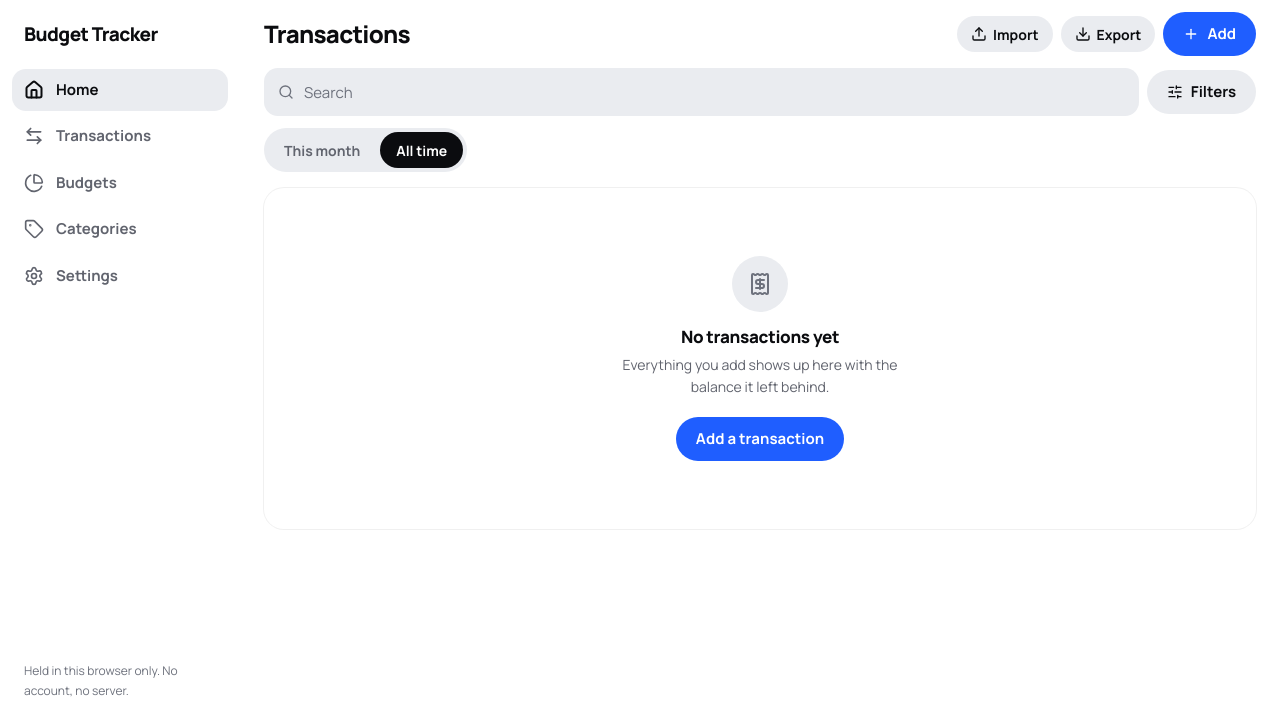
recording an entry › closes on Escape without saving
The image size is (1280, 720).
Check: the text "No transactions yet" is shown, box [681,325,839,348]
Click the button with aria-label "add transaction" at (1210, 34), box [1163,12,1256,56]
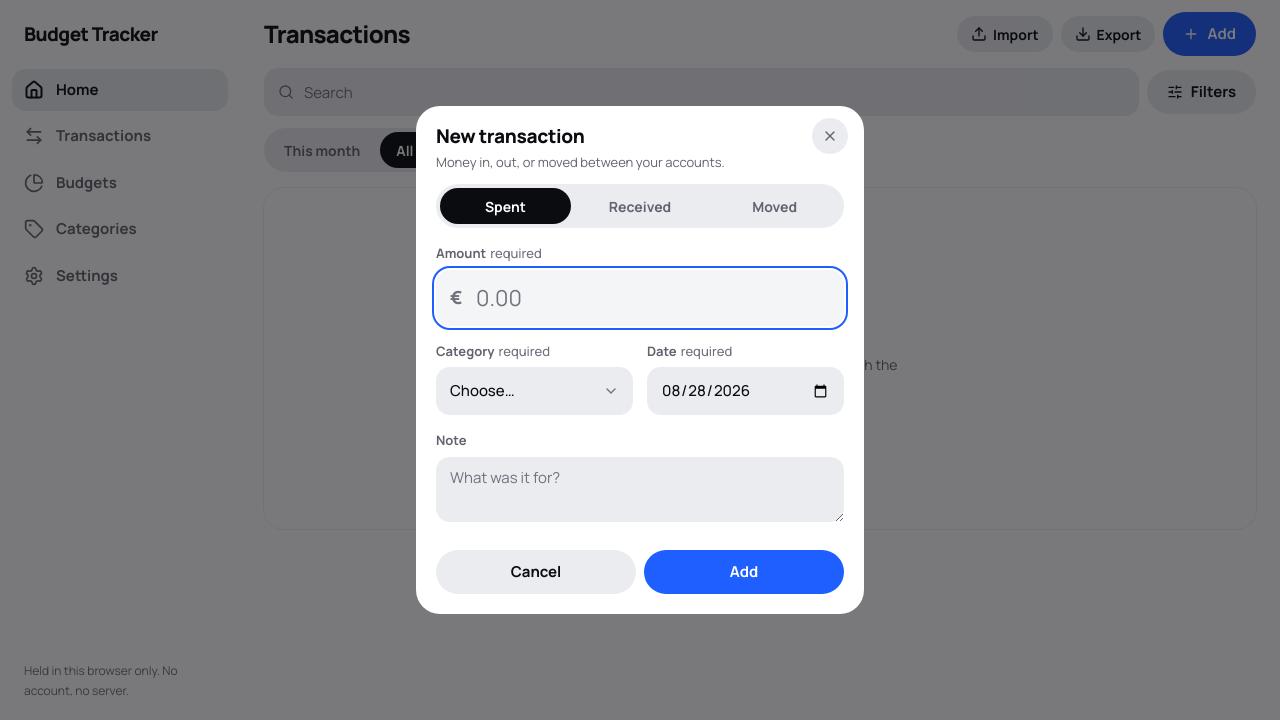
Type "15" into the field labelled "Amount" at (640, 298), box [436,270,844,326]
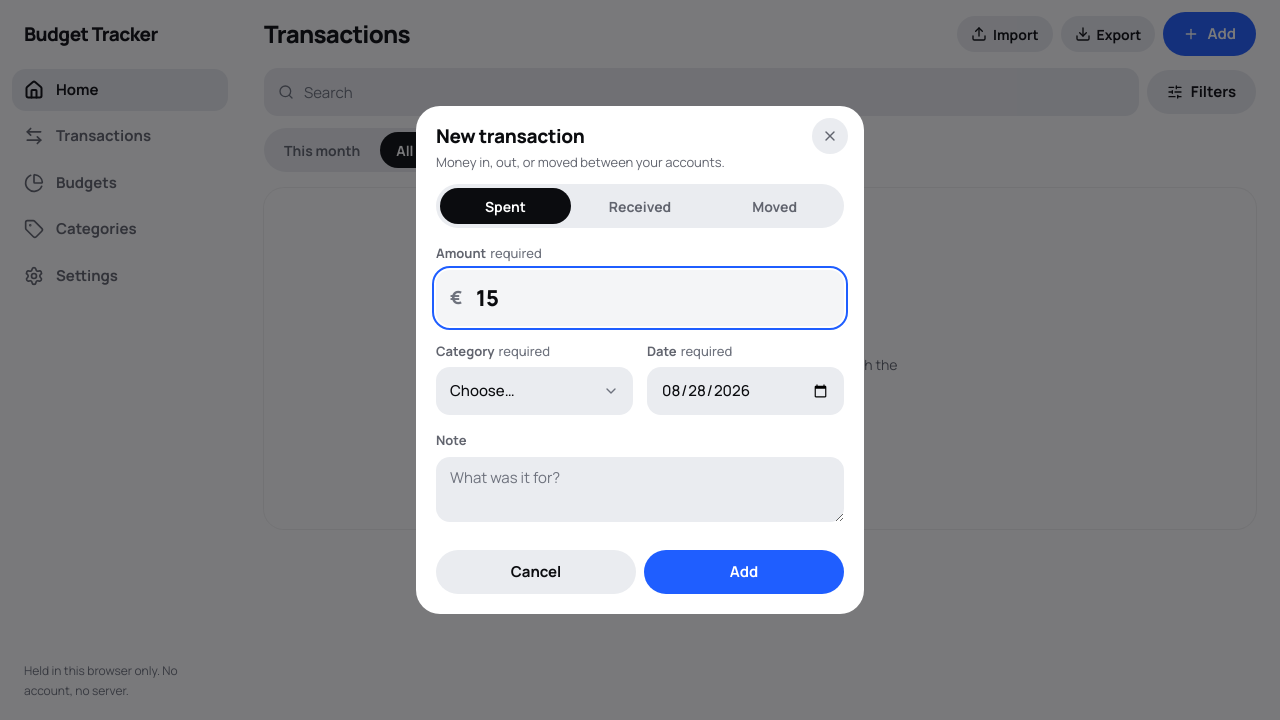
Press Escape
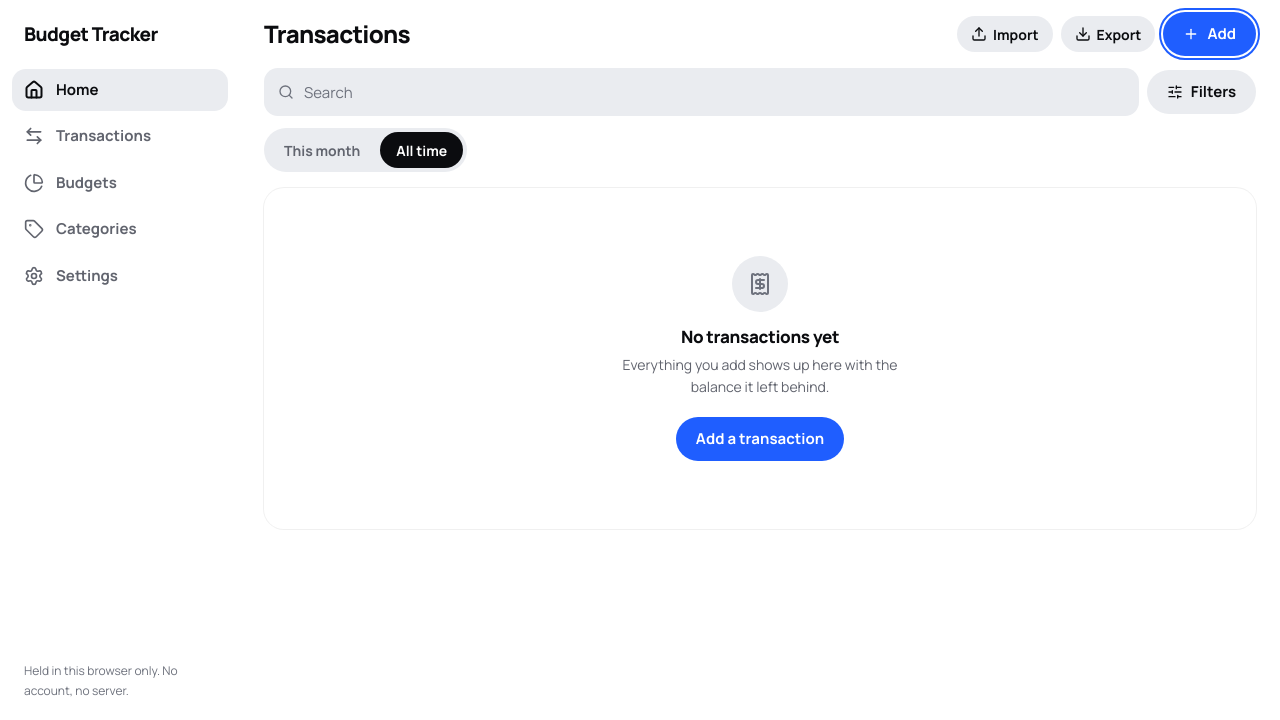
Check: the dialog is gone
